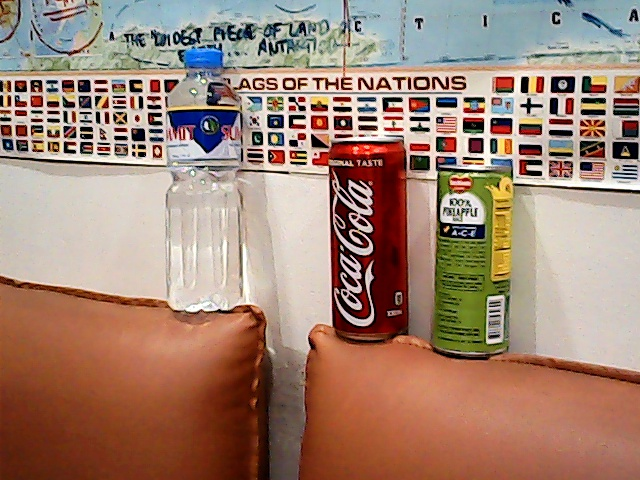Cola: (323, 131, 411, 341)
Pine Juice: (423, 155, 519, 367)
Summit Water: (163, 44, 257, 314)
